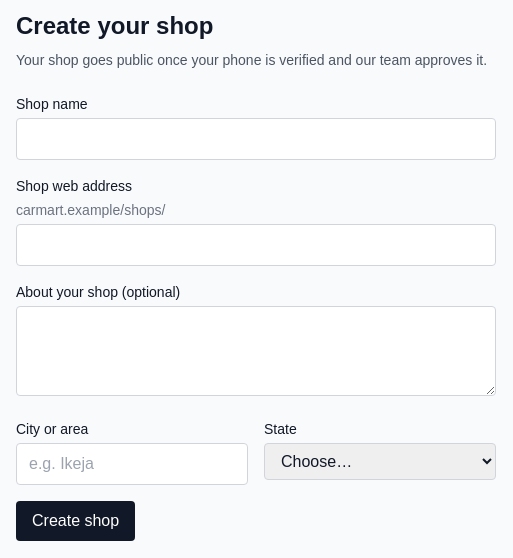
Scenario: /sell/shop create form › suggests a slug from the shop name
Type "Coastal Cars Lagos" into the field labelled "Shop name" at [256, 139], box [16,118,496,160]
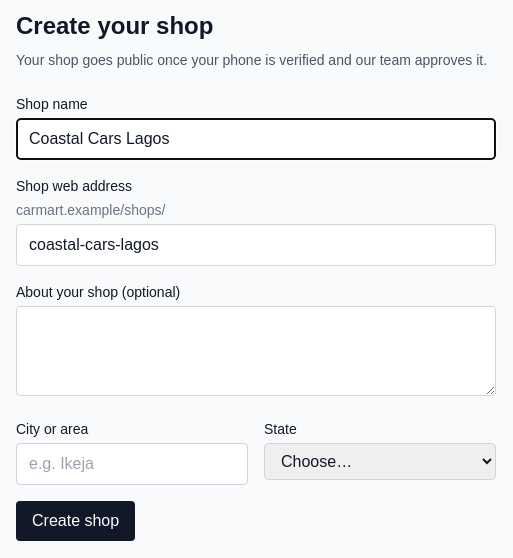
Result: the field labelled "Shop web address" holds "coastal-cars-lagos" at [16,224,496,266]
